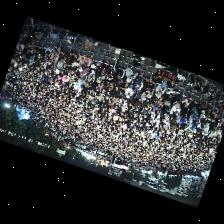person: (113, 54, 125, 78), (100, 57, 111, 75), (64, 51, 79, 64), (144, 78, 156, 93), (126, 67, 138, 81), (173, 95, 181, 116), (80, 54, 92, 67), (134, 90, 145, 104), (164, 89, 178, 100), (105, 69, 114, 85), (152, 92, 163, 105), (182, 96, 194, 107), (164, 100, 171, 118), (133, 74, 143, 86), (156, 84, 166, 96), (125, 84, 134, 97), (72, 57, 81, 70), (113, 79, 123, 90), (134, 80, 143, 92), (141, 87, 150, 99), (44, 45, 53, 57), (74, 79, 81, 94), (57, 58, 65, 71), (67, 65, 76, 76), (123, 76, 132, 87), (196, 103, 205, 114), (193, 108, 199, 124), (88, 68, 95, 81), (209, 110, 217, 121), (50, 54, 59, 63), (188, 101, 197, 110), (36, 45, 45, 54), (135, 100, 143, 110), (91, 59, 100, 67), (181, 117, 188, 127), (122, 100, 128, 111), (171, 118, 176, 130), (201, 110, 206, 122), (79, 67, 85, 77), (97, 75, 105, 82), (204, 107, 211, 115), (27, 42, 32, 53), (216, 114, 222, 123), (189, 113, 193, 126), (53, 60, 58, 70), (31, 42, 36, 52)
